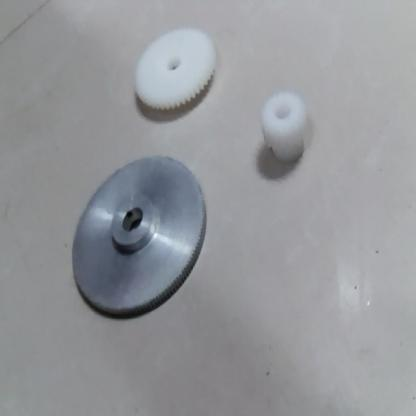FOD: (55, 140, 210, 318), (129, 28, 218, 117), (255, 80, 310, 173)
